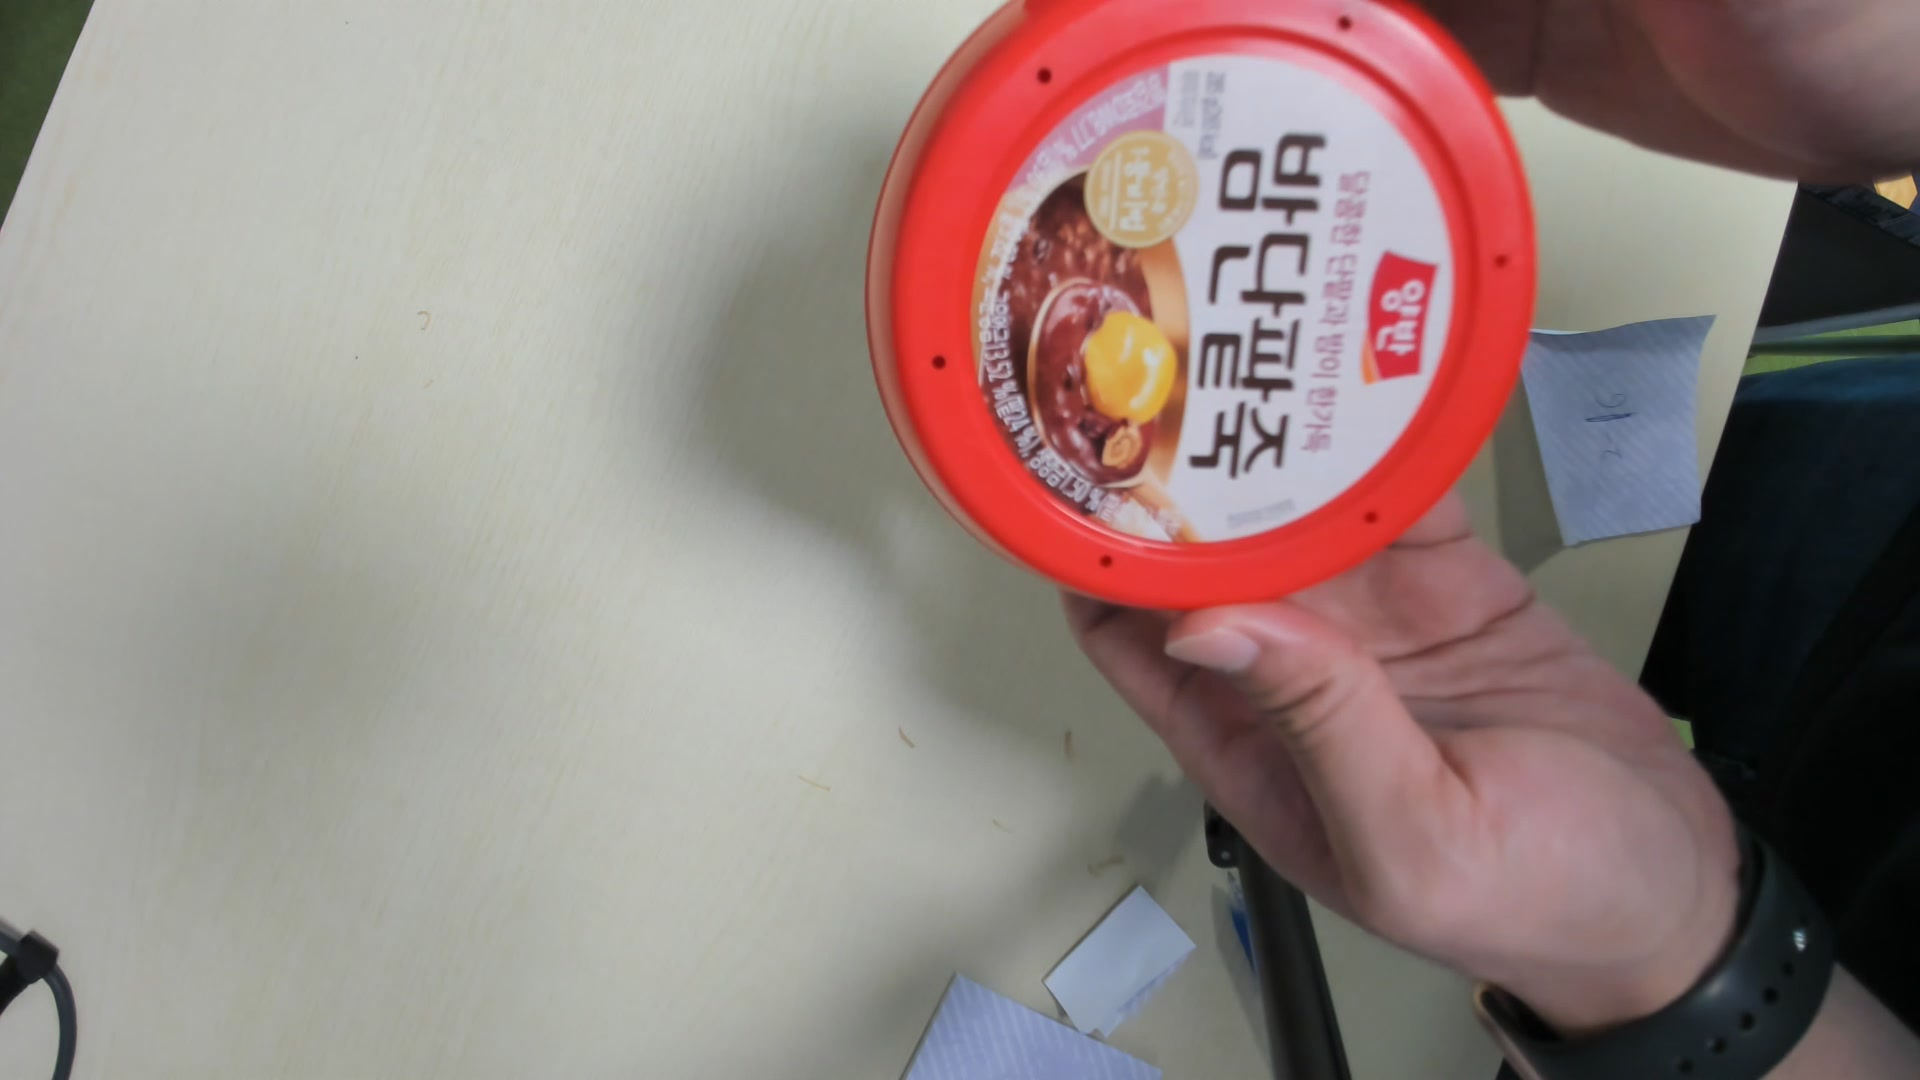InstantMeals_200_299g_NonHalal_NonHealthy: (869, 9, 1540, 636)
